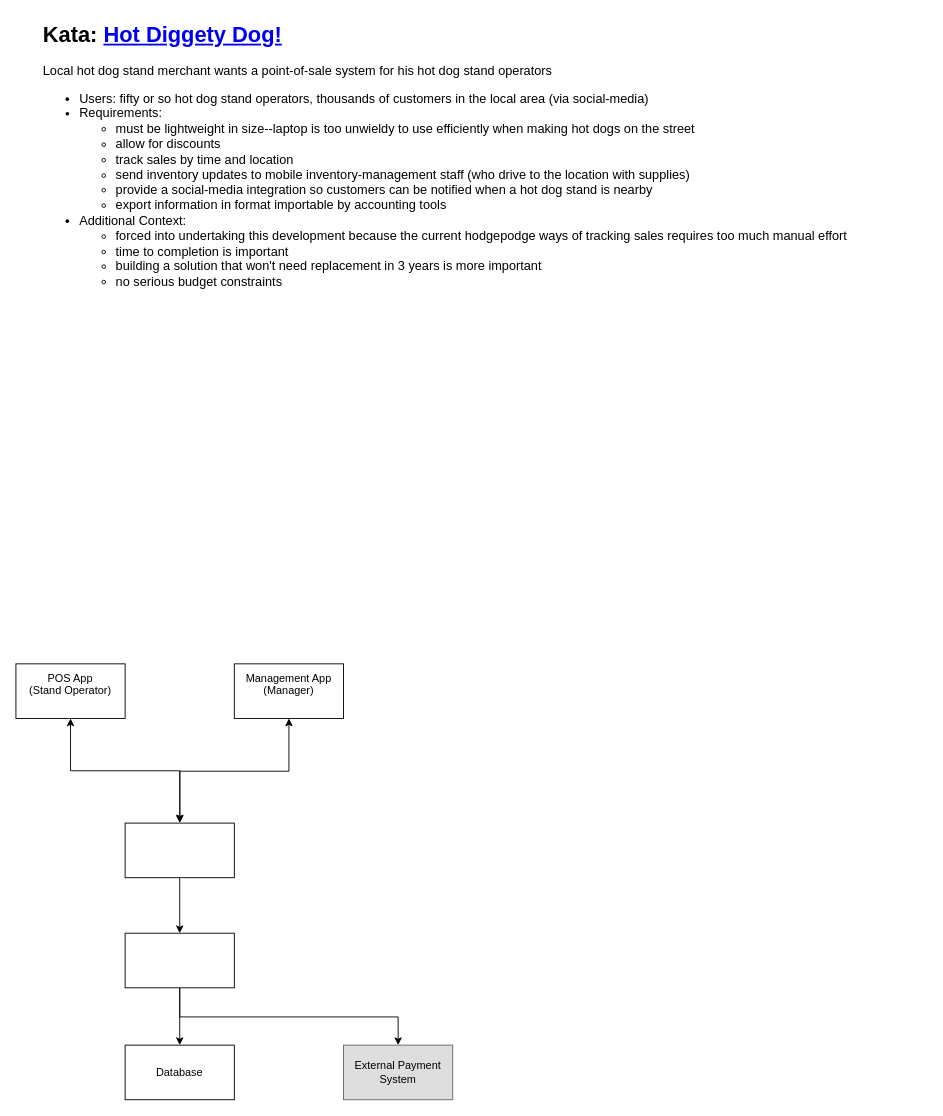
This 943x1116 diagram has some shape labels left out. The box of each missing label's shape, as (x1, y1, x2, y2) in pixels:
API Gateway: (124, 822, 234, 878)
Application Backend: (124, 932, 234, 988)
